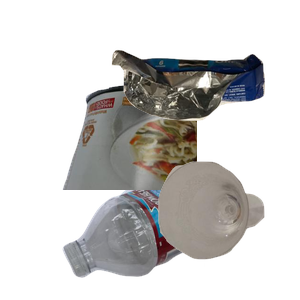glass: (156, 159, 300, 300)
metal: (60, 82, 300, 262)
plastic: (60, 190, 300, 280)
trash: (109, 47, 300, 160)
